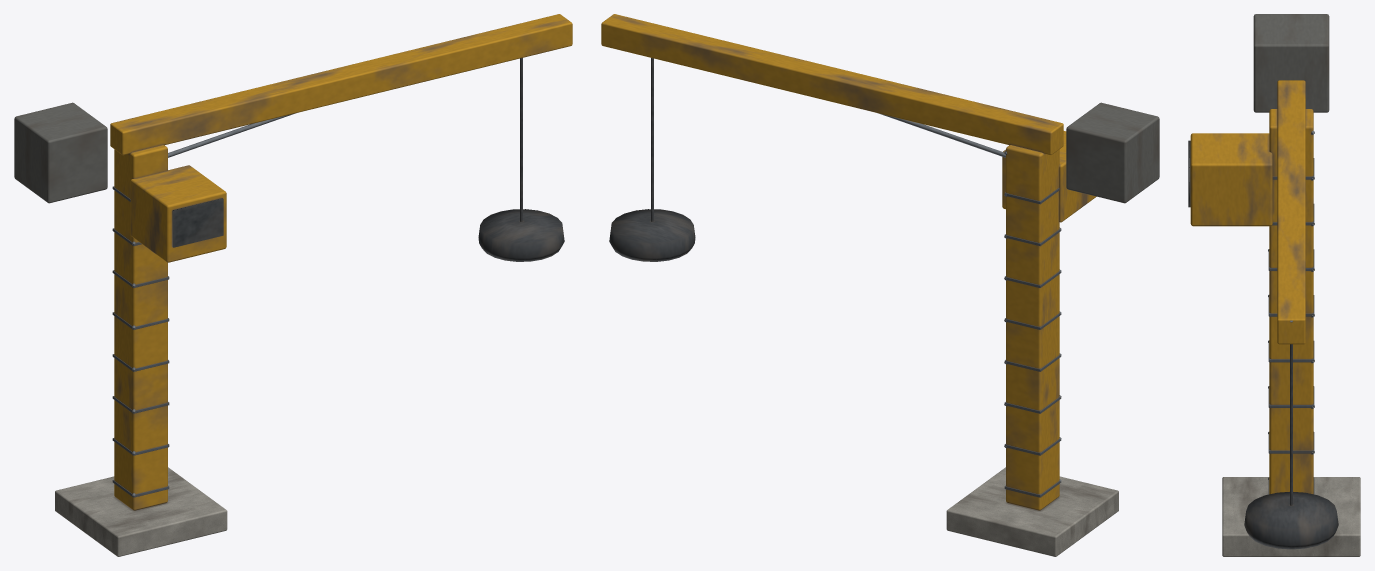
File: zlom_zuraw.glb
3 renders of one model, left to right at view 1: azimuth 30°, elevation 25°; view 2: azimuth 150°, elevation 25°; view 3: azimuth 270°, elevation 25°, orthographic. The views are drawn at different scales.
Visible parts, largest first — view 1: Zuraw; view 2: Zuraw; view 3: Zuraw.
Boxes of the visible parts, x1,y1,x2,y2 form: Zuraw: [14, 14, 572, 556]; Zuraw: [601, 14, 1159, 556]; Zuraw: [1188, 14, 1360, 556].
Size of the model in its own units: 10.71 by 8 by 2.74.
Materials: 1 (1 with a texture image).
